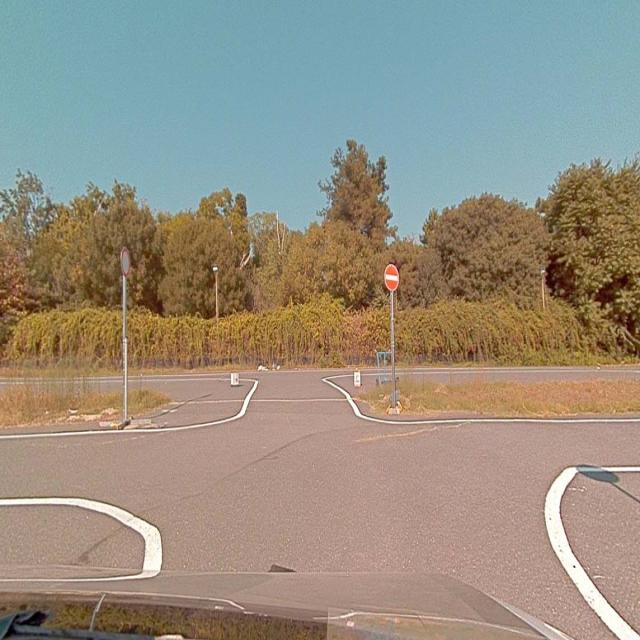girisyok: (384, 264, 398, 290)
